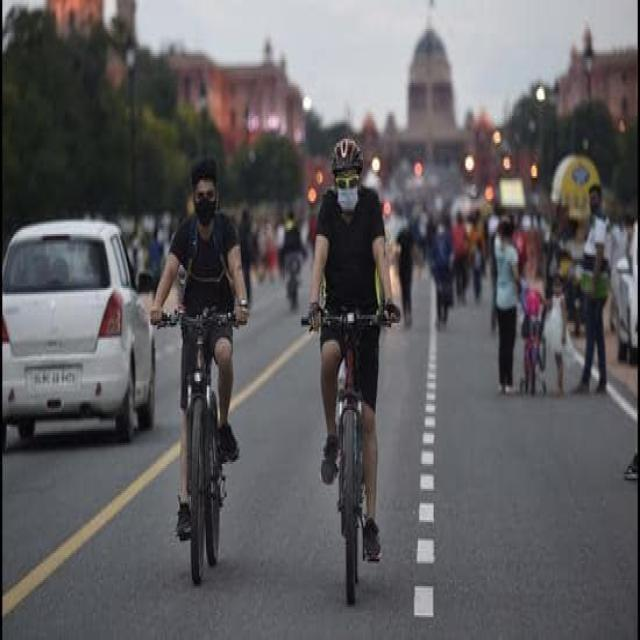bicycle: (301, 138, 400, 602), (151, 158, 249, 582)
car: (1, 220, 159, 442)
